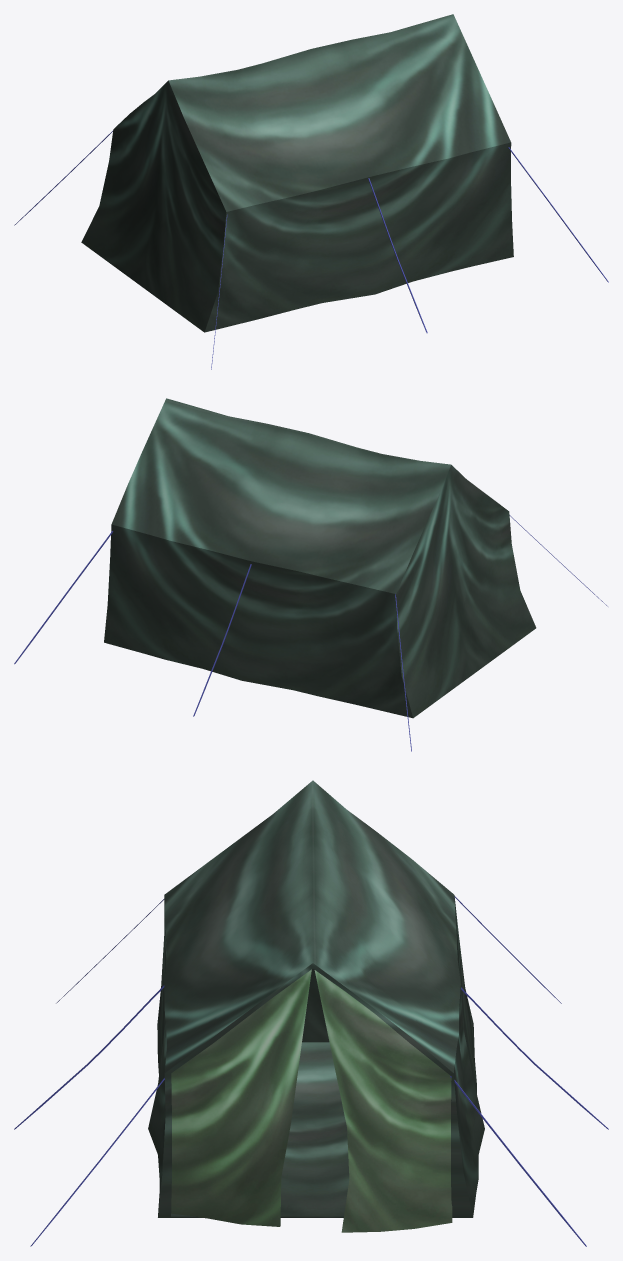
File: SM_Tent.fbx
3 renders of one model, top to bottom at view 1: azimuth 30°, elevation 25°; view 2: azimuth 150°, elevation 25°; view 3: azimuth 270°, elevation 25°, orthographic. The views are drawn at different scales.
Visible parts, largest first — view 1: group5; view 2: group5; view 3: group5.
Boxes of the visible parts, box(x1,y1,x2,y2) form: group5: box(14, 14, 608, 369); group5: box(14, 398, 607, 751); group5: box(14, 780, 608, 1246).
Bounding box in the file's own units: 3.61 × 1.82 × 3.73.
Materials: 2 (1 with a texture image).
